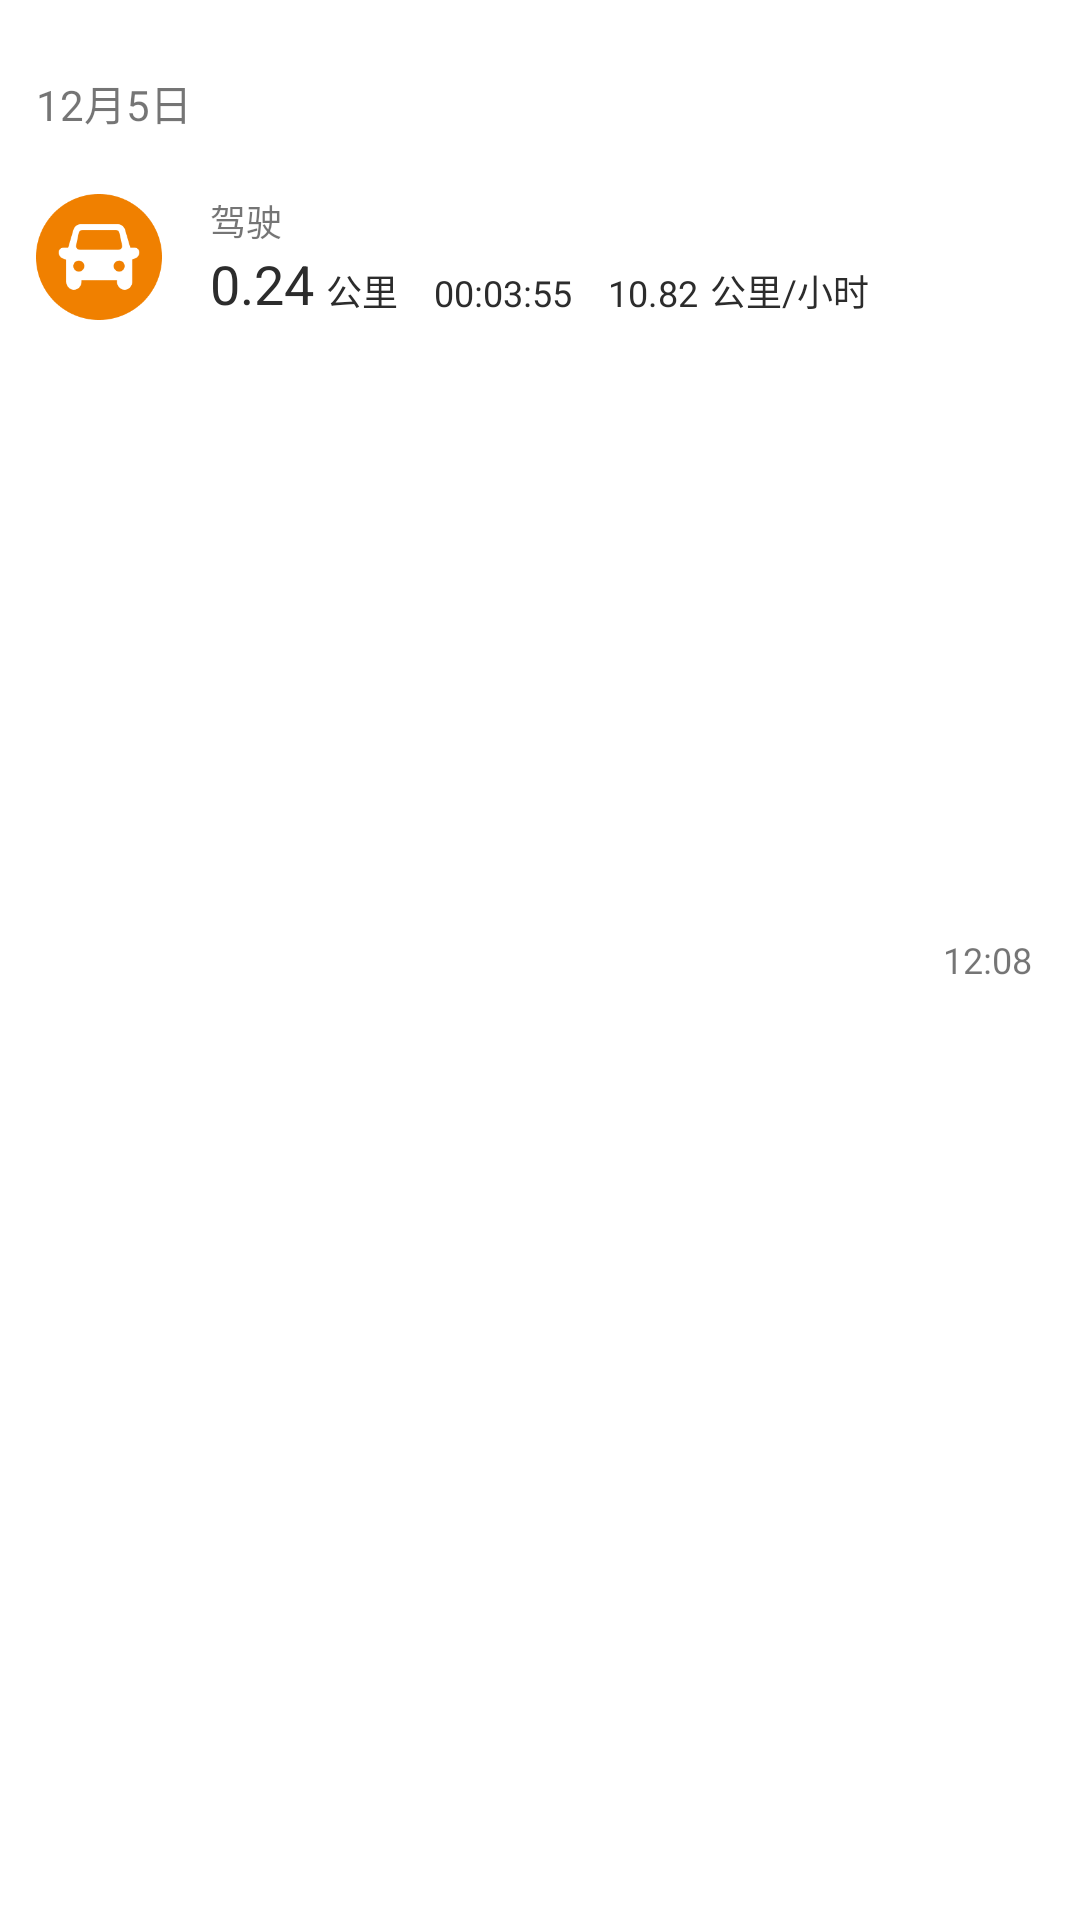

Screen size 1080px x 1920px. Icon name, then its center in pixels as [x,y]:
drive: [99,257]
